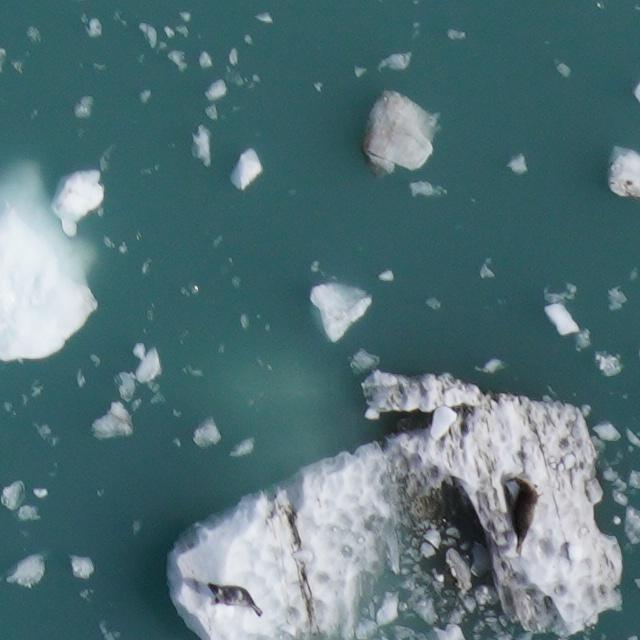seal: (508, 475, 540, 553), (203, 578, 267, 616)
